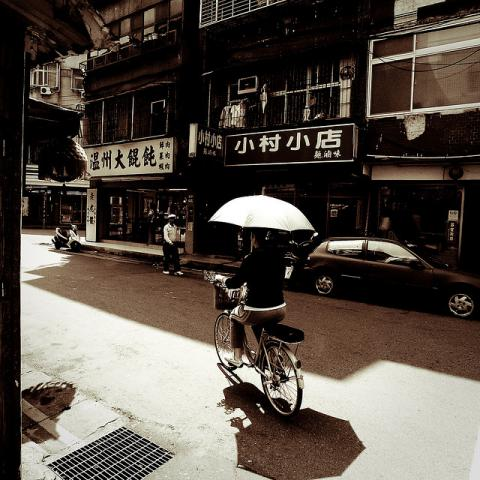car: (301, 236, 479, 318)
motorcycle: (52, 224, 80, 251)
